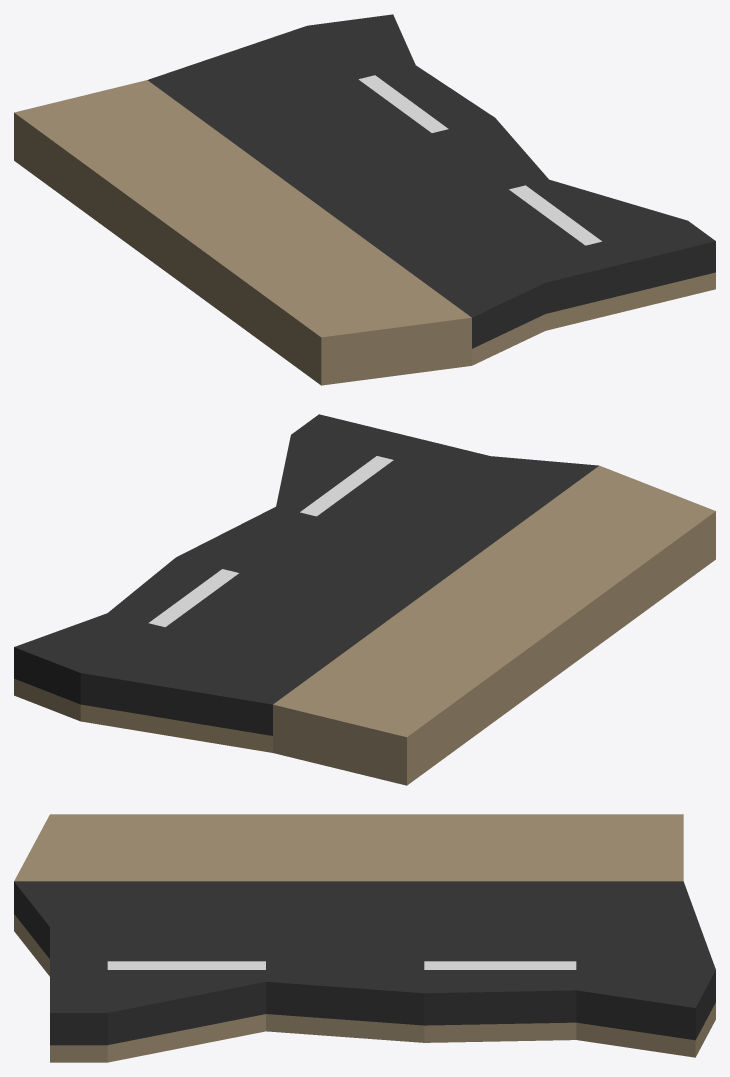
Rendered from DarkStoneFloorMediumBrokenRoad1.fbx.
The picture shows the model from 3 angles, top to bottom: view 1: azimuth 30°, elevation 25°; view 2: azimuth 150°, elevation 25°; view 3: azimuth 270°, elevation 25°; orthographic projection. The views are drawn at different scales.
Parts seen in each view (by area): view 1: DarkStoneFloorMediumBrokenRoad1; view 2: DarkStoneFloorMediumBrokenRoad1; view 3: DarkStoneFloorMediumBrokenRoad1.
Part boxes in pixels (left/top/right/bottom): DarkStoneFloorMediumBrokenRoad1: left=14, top=14, right=715, bottom=385; DarkStoneFloorMediumBrokenRoad1: left=14, top=414, right=715, bottom=785; DarkStoneFloorMediumBrokenRoad1: left=14, top=814, right=715, bottom=1062.
Size of the model in its own units: 1218 by 142 by 1820.
